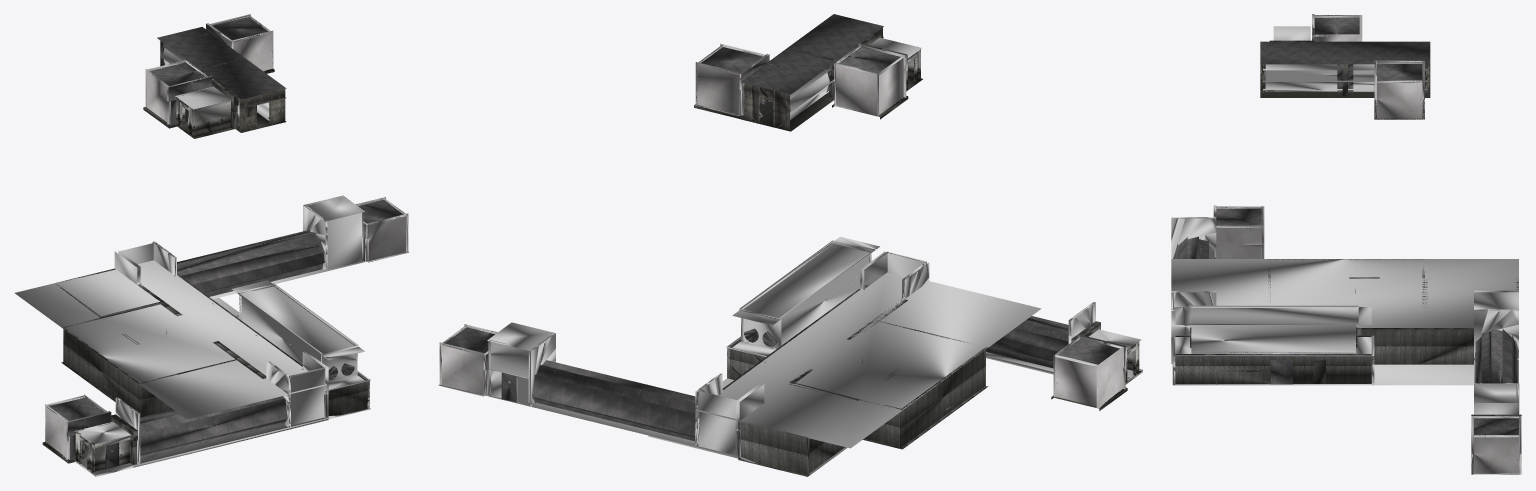
The model's file is room049_opt.obj.
The picture shows the model from 3 angles, left to right: view 1: azimuth 30°, elevation 25°; view 2: azimuth 150°, elevation 25°; view 3: azimuth 270°, elevation 25°; orthographic projection. The views are drawn at different scales.
Bounding box in the file's own units: 329 × 205 × 211.
